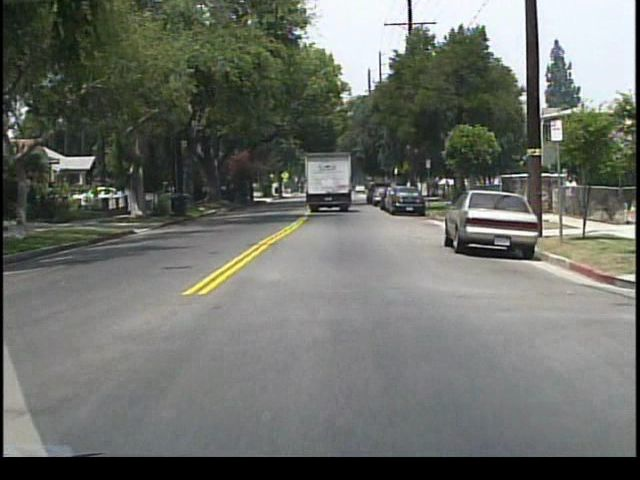person: (562, 173, 579, 217)
